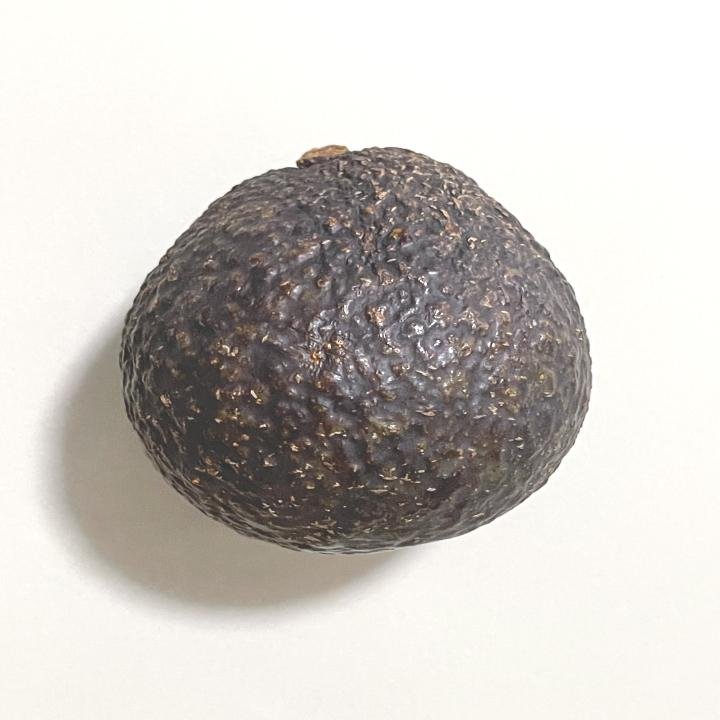Level3: (110, 134, 602, 561)
